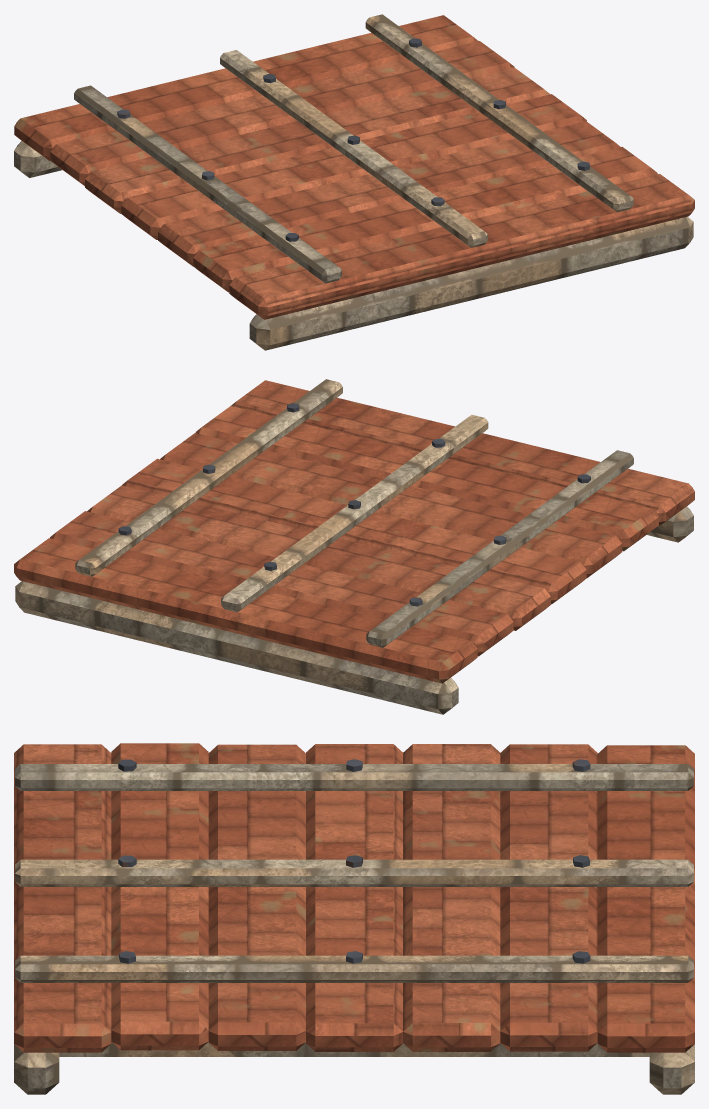
The model's file is duz_cati.glb.
3 renders of one model, top to bottom at view 1: azimuth 30°, elevation 25°; view 2: azimuth 150°, elevation 25°; view 3: azimuth 270°, elevation 25°, orthographic. The views are drawn at different scales.
Visible parts, largest first — view 1: duz_cati; view 2: duz_cati; view 3: duz_cati.
Boxes of the visible parts, x1=… form: duz_cati: x1=14, y1=14, x2=694, y2=350; duz_cati: x1=14, y1=379, x2=694, y2=714; duz_cati: x1=14, y1=743, x2=694, y2=1094.
Size of the model in its own units: 3 by 0.475 by 3.
1 material, 1 textured.
